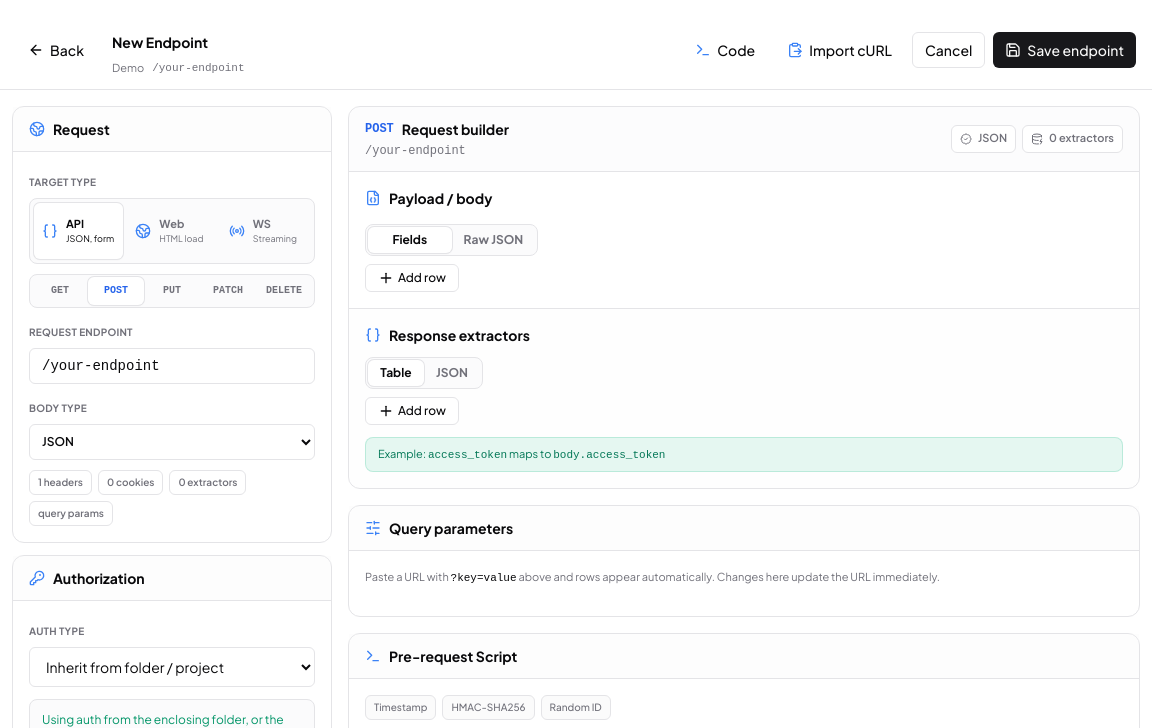
it: EndpointEditor authorization › previews the bearer header it will send
Select "Bearer token" in the dropdown named "Auth type": (172, 666) [29,646,315,686]
(page scrolled)
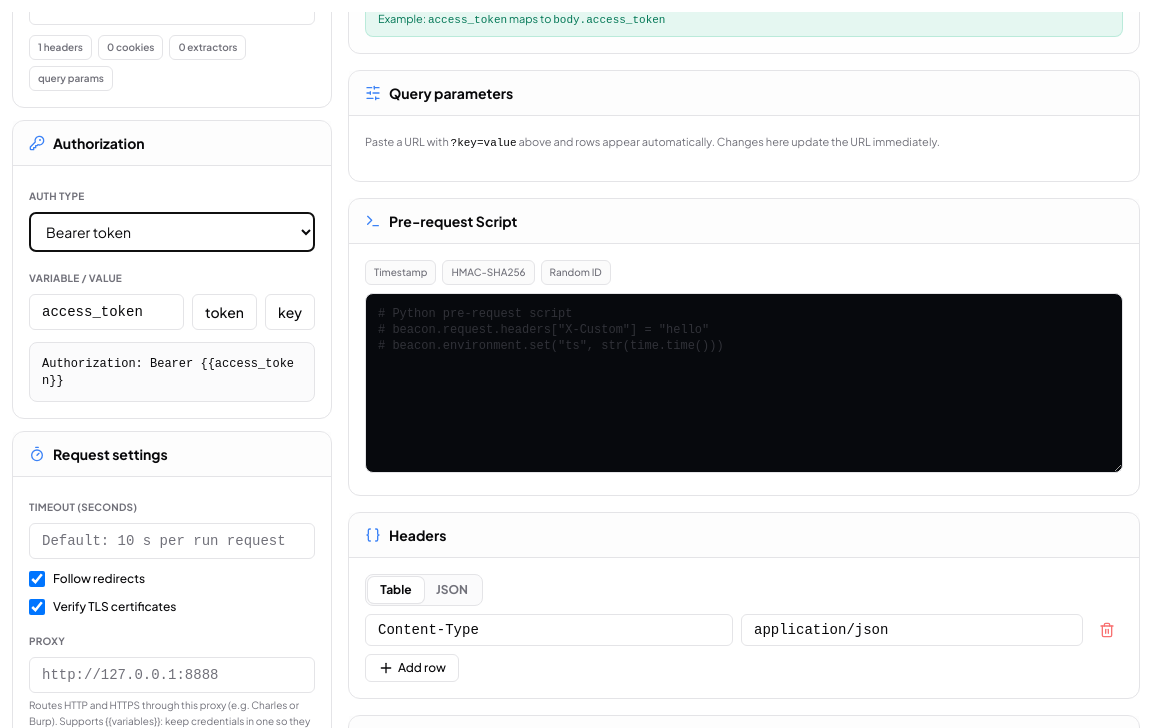
Expected: the text "Authorization: Bearer {{access_token}}" is shown, [42,356,294,388]
